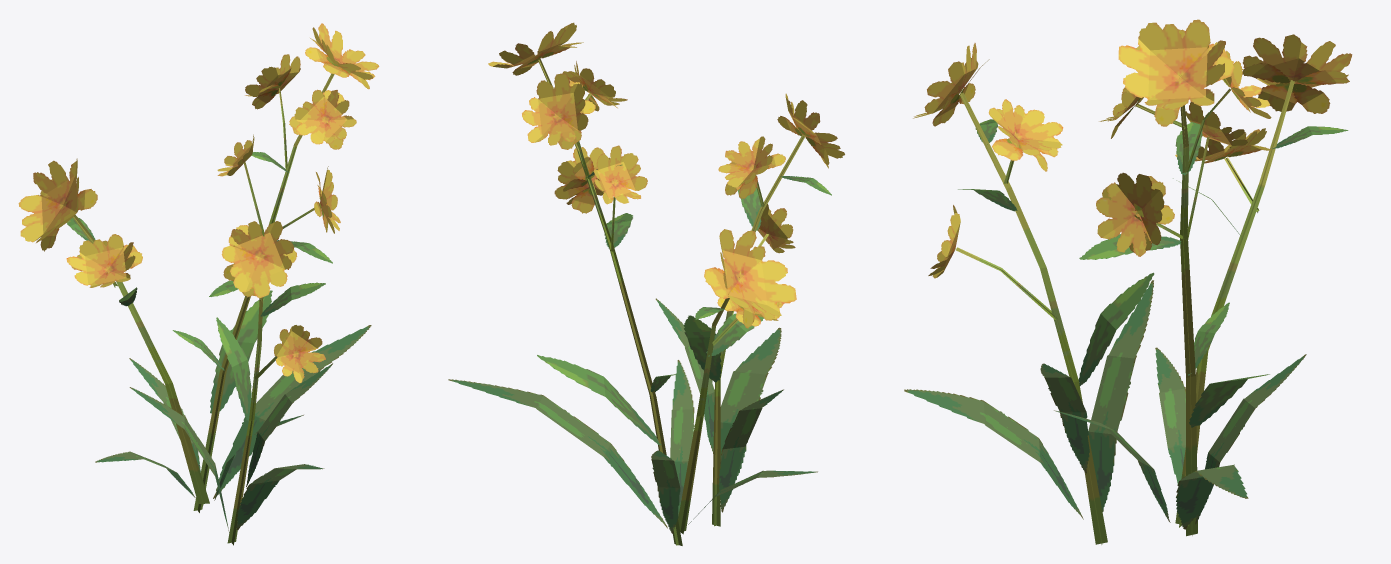
The model's file is gi-Flower_Yellow_01.glb.
The picture shows the model from 3 angles, left to right: view 1: azimuth 30°, elevation 25°; view 2: azimuth 150°, elevation 25°; view 3: azimuth 270°, elevation 25°; orthographic projection. The views are drawn at different scales.
Parts seen in each view (by area): view 1: gi-Flower_Yellow_01; view 2: gi-Flower_Yellow_01; view 3: gi-Flower_Yellow_01.
Part boxes in pixels (x1,y1,x2,y2): gi-Flower_Yellow_01: (18, 23, 379, 545); gi-Flower_Yellow_01: (448, 22, 844, 545); gi-Flower_Yellow_01: (904, 19, 1352, 544).
Bounding box in the file's own units: 0.546 × 0.6788 × 0.496.
Materials: 1 (1 with a texture image).
